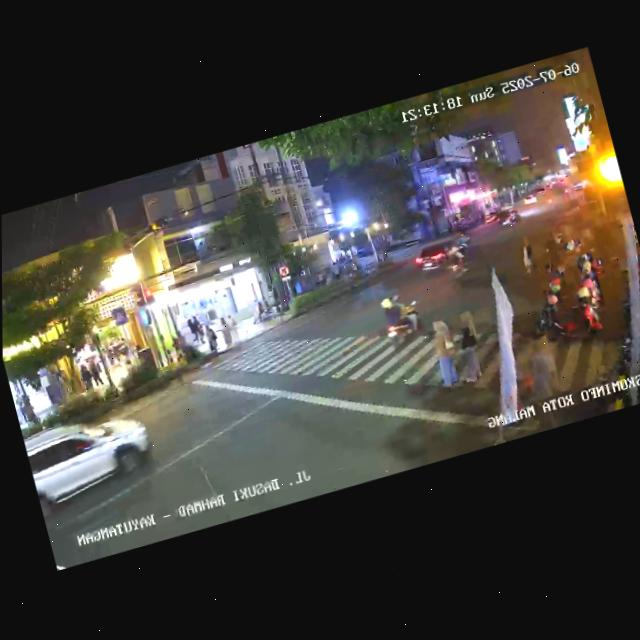car: (23, 401, 161, 523), (412, 232, 472, 279)
motorcycle: (373, 286, 430, 355), (441, 242, 473, 282)
person: (446, 305, 490, 386), (424, 317, 465, 394), (517, 238, 541, 278), (215, 312, 235, 349), (13, 390, 32, 425), (203, 318, 221, 354), (77, 358, 95, 392), (88, 355, 105, 389), (191, 313, 207, 345), (185, 317, 201, 345), (225, 313, 240, 340)
